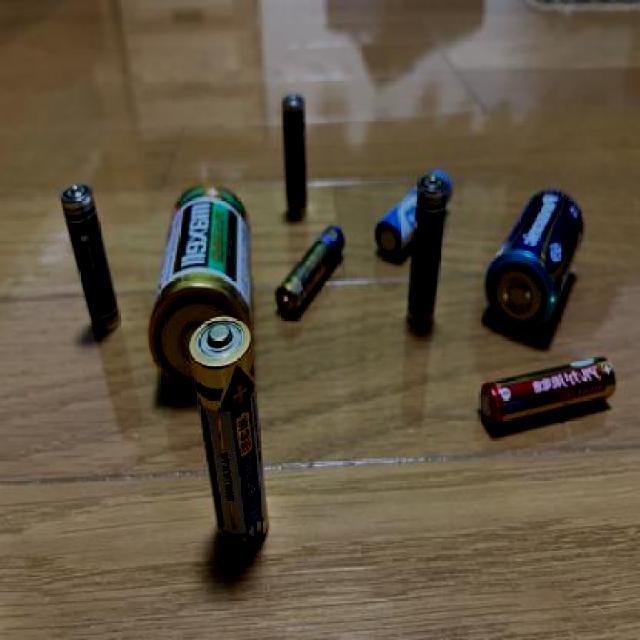AA: (186, 314, 282, 560), (476, 356, 618, 430)
AAA: (60, 182, 123, 336), (275, 222, 348, 318)
